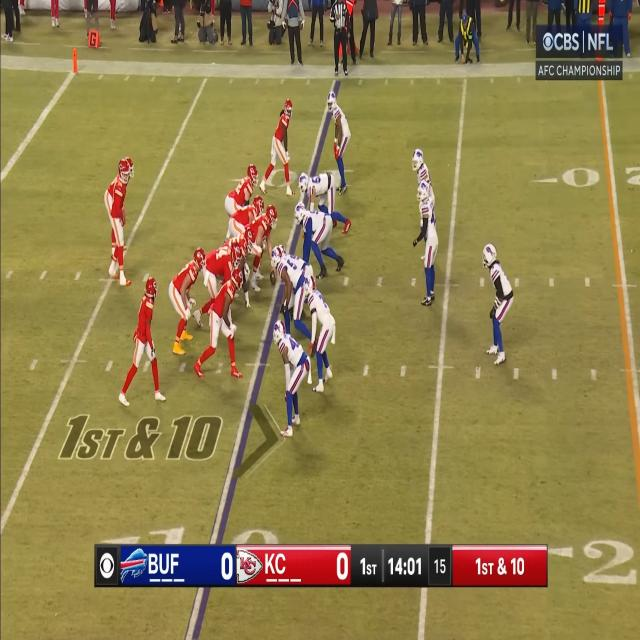Ball: (271, 271, 276, 285)
